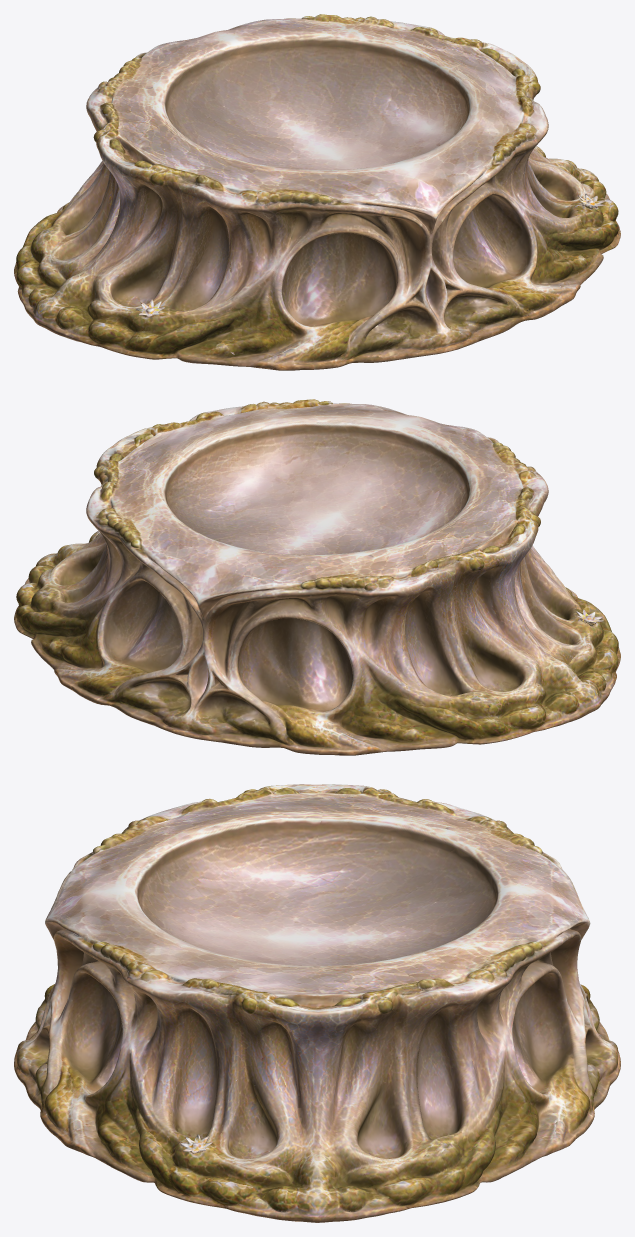
File: altar-pedestal.glb
3 views of the same model, one above another, from view 1: azimuth 30°, elevation 25°; view 2: azimuth 150°, elevation 25°; view 3: azimuth 270°, elevation 25° (orthographic). The views are drawn at different scales.
Parts seen in each view (by area): view 1: tripo_node_990a5b9c-325a-49c4-a969-c8a6c1598af1; view 2: tripo_node_990a5b9c-325a-49c4-a969-c8a6c1598af1; view 3: tripo_node_990a5b9c-325a-49c4-a969-c8a6c1598af1.
Boxes of the visible parts, <box> form: tripo_node_990a5b9c-325a-49c4-a969-c8a6c1598af1: <box>14,14,620,370</box>; tripo_node_990a5b9c-325a-49c4-a969-c8a6c1598af1: <box>14,399,620,755</box>; tripo_node_990a5b9c-325a-49c4-a969-c8a6c1598af1: <box>14,784,620,1222</box>.
Size of the model in its own units: 0.9796 by 0.2572 by 0.7975.
1 material, 1 textured.
